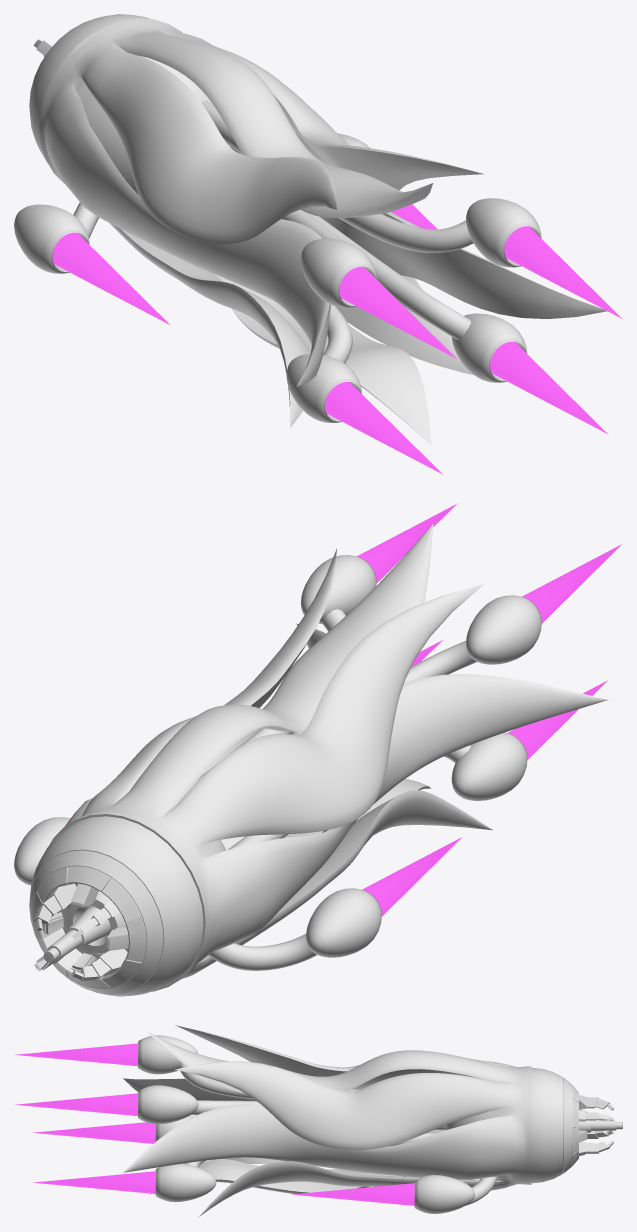
Rendered from Umpire.fbx.
The picture shows the model from 3 angles, top to bottom: view 1: azimuth 30°, elevation 25°; view 2: azimuth 150°, elevation 25°; view 3: azimuth 270°, elevation 25°; orthographic projection. The views are drawn at different scales.
Visible parts, largest first — view 1: Ship, Enginge.001, Enginge.002, Enginge, NurbsPath.001, NurbsPath.002, Eye; view 2: Ship, Eye, Enginge.001, Enginge, Enginge.002, NurbsPath, NurbsPath.002; view 3: Ship, Eye, Enginge.001, Enginge.002, Enginge, NurbsPath.002, NurbsPath.
Boxes of the visible parts, bbox=[...] form: Ship: bbox=[39, 18, 606, 444]; Enginge.001: bbox=[300, 198, 622, 358]; Enginge.002: bbox=[286, 313, 608, 474]; Enginge: bbox=[14, 133, 437, 324]; NurbsPath.001: bbox=[308, 213, 470, 363]; NurbsPath.002: bbox=[201, 100, 473, 253]; Eye: bbox=[29, 14, 150, 163]; Ship: bbox=[48, 524, 608, 991]; Eye: bbox=[29, 816, 203, 996]; Enginge.001: bbox=[300, 503, 621, 664]; Enginge: bbox=[14, 817, 461, 957]; Enginge.002: bbox=[291, 640, 607, 800]; NurbsPath: bbox=[208, 934, 316, 970]; NurbsPath.002: bbox=[190, 609, 476, 789]; Ship: bbox=[123, 1025, 531, 1217]; Eye: bbox=[531, 1067, 622, 1183]; Enginge.001: bbox=[14, 1035, 198, 1124]; Enginge.002: bbox=[33, 1115, 216, 1202]; Enginge: bbox=[291, 1175, 475, 1213]; NurbsPath.002: bbox=[179, 1063, 358, 1115]; NurbsPath: bbox=[465, 1176, 498, 1205].
Size of the model in its own units: 4.28 by 10.52 by 3.11.
